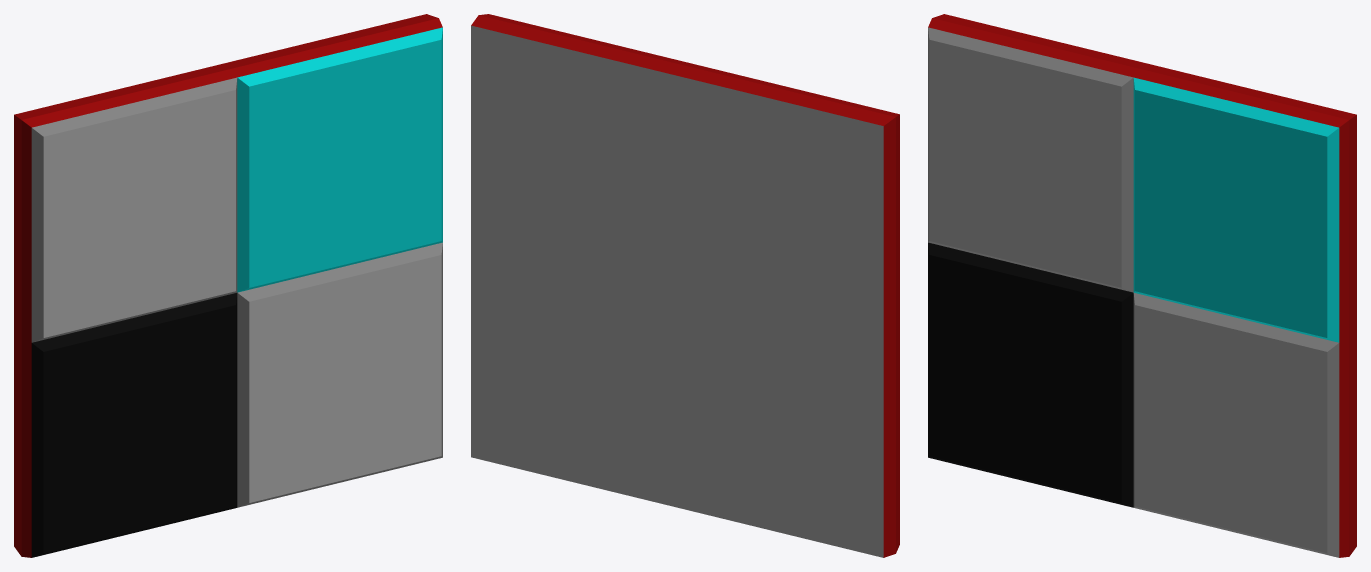
Rendered from blue_panel.fbx.
The picture shows the model from 3 angles, left to right: view 1: azimuth 30°, elevation 25°; view 2: azimuth 150°, elevation 25°; view 3: azimuth 330°, elevation 25°; orthographic projection.
Parts seen in each view (by area): view 1: blue_panel; view 2: blue_panel; view 3: blue_panel.
Boxes of the visible parts, x1,y1,x2,y2 form: blue_panel: (14, 14, 442, 557); blue_panel: (471, 14, 899, 557); blue_panel: (928, 14, 1356, 557).
Size of the model in its own units: 245 by 245 by 22.59.
